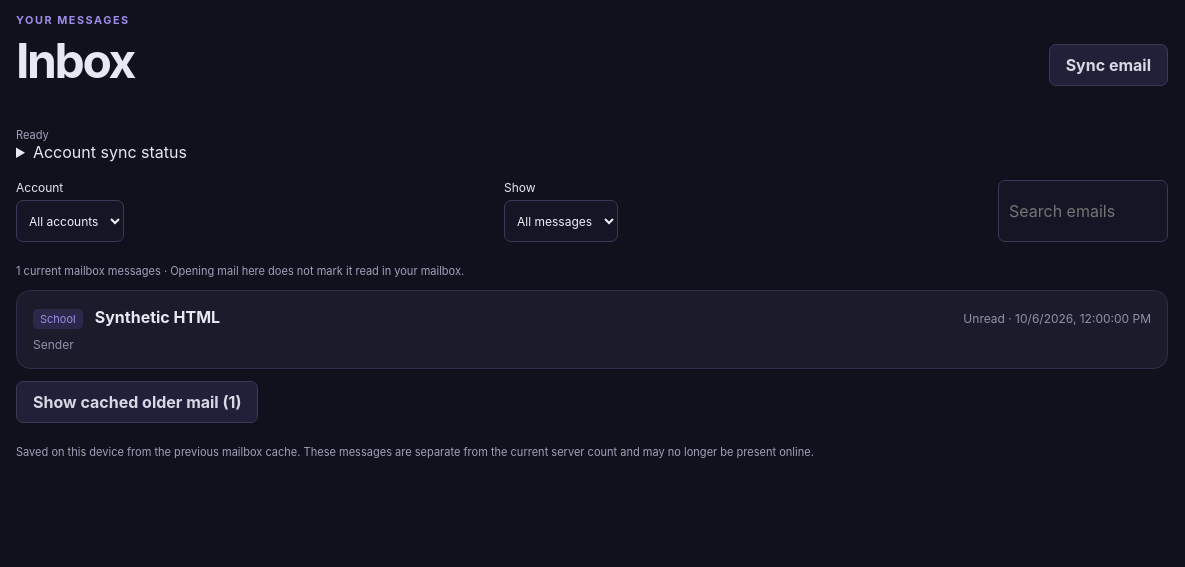
discloses retained older cache separately without inflating the server count
This screenshot has width=1185, height=567.
Expected: the text "1 current mailbox messages" is shown, left=16, top=264, right=161, bottom=278
Expected: the text "Cached legacy message" is not shown
Click the button "Show cached older mail (1)" at (137, 402), box left=16, top=381, right=258, bottom=423
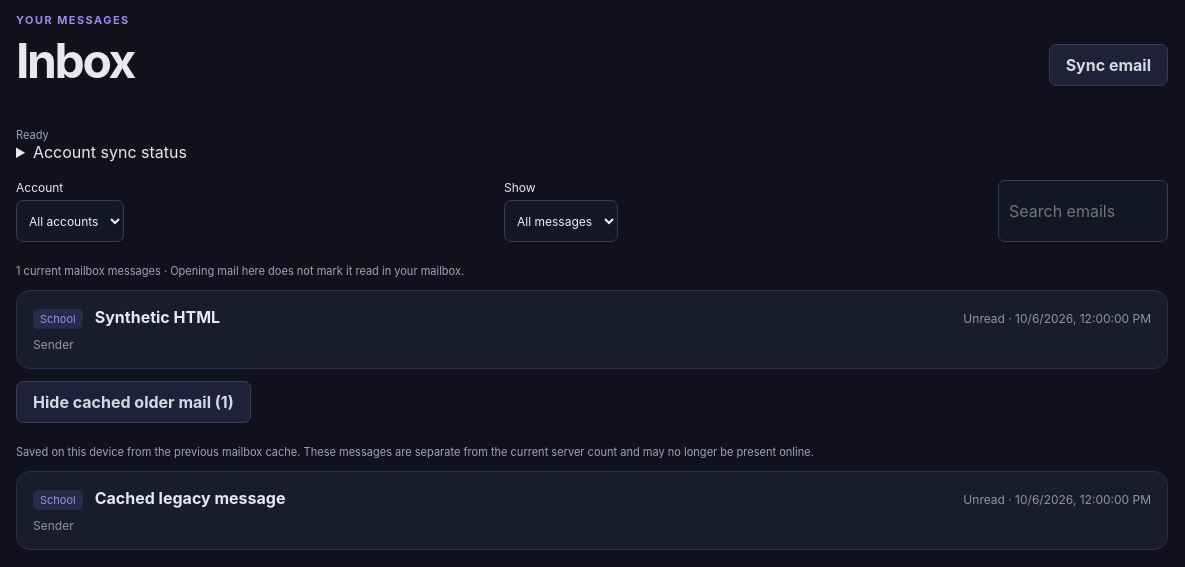
Expected: the text "separate from the current server count" is shown, left=16, top=445, right=814, bottom=459
Expected: the text "Cached legacy message" is shown, left=95, top=488, right=285, bottom=508
